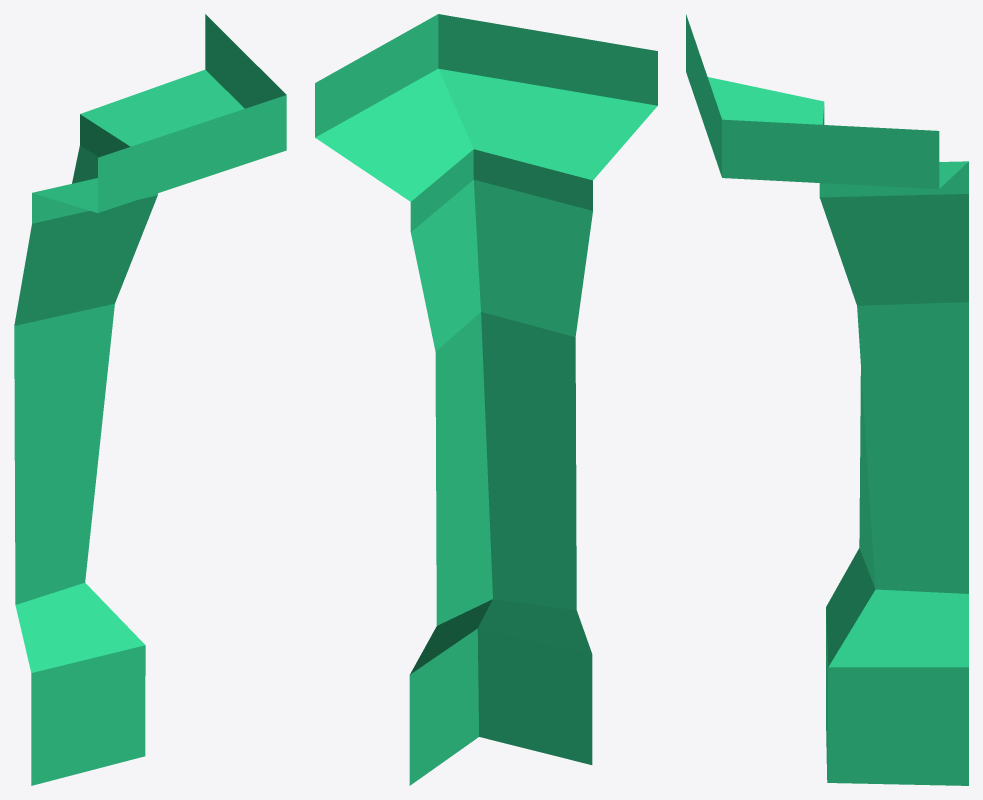
The model's file is ColCornerIn.fbx.
3 renders of one model, left to right at view 1: azimuth 30°, elevation 25°; view 2: azimuth 150°, elevation 25°; view 3: azimuth 270°, elevation 25°, orthographic. The views are drawn at different scales.
Parts seen in each view (by area): view 1: ColCornerIn; view 2: ColCornerIn; view 3: ColCornerIn.
Boxes of the visible parts, x1,y1,x2,y2 form: ColCornerIn: (14, 14, 286, 785); ColCornerIn: (315, 14, 657, 785); ColCornerIn: (686, 14, 968, 785).
Bounding box in the file's own units: 106 × 300 × 108.
